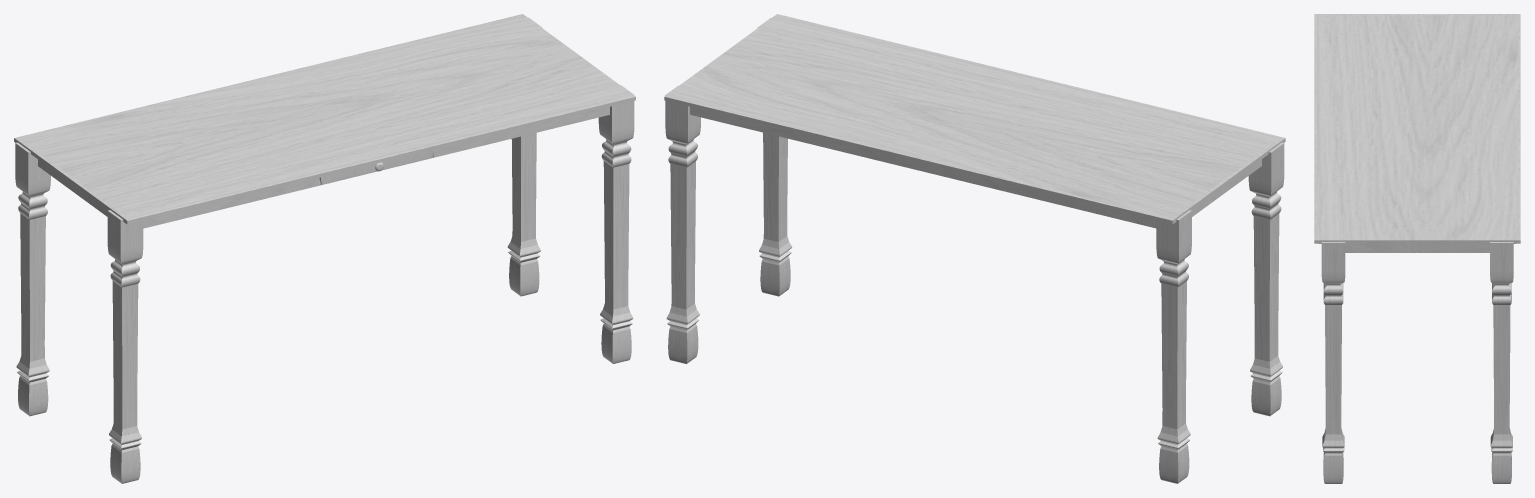
File: desk.glb
3 renders of one model, left to right at view 1: azimuth 30°, elevation 25°; view 2: azimuth 150°, elevation 25°; view 3: azimuth 270°, elevation 25°, orthographic. The views are drawn at different scales.
Parts seen in each view (by area): view 1: 上, left-front.001, left-front.002, left-front.004, left-front.003, 下, drawer; view 2: 上, left-front.002, left-front.001, left-front.003, 下, left-front.004; view 3: 上, left-front.004, left-front.003, 下.
Boxes of the visible parts, bbox=[...] form: 上: bbox=[14, 14, 635, 224]; left-front.001: bbox=[107, 210, 143, 483]; left-front.002: bbox=[15, 142, 50, 416]; left-front.004: bbox=[598, 85, 634, 363]; left-front.003: bbox=[507, 17, 541, 296]; 下: bbox=[38, 107, 609, 228]; drawer: bbox=[319, 149, 433, 184]; 上: bbox=[664, 14, 1285, 224]; left-front.002: bbox=[1156, 210, 1191, 483]; left-front.001: bbox=[1248, 142, 1284, 416]; left-front.003: bbox=[665, 85, 700, 363]; 下: bbox=[690, 106, 1261, 228]; left-front.004: bbox=[757, 18, 791, 296]; 上: bbox=[1314, 14, 1520, 243]; left-front.004: bbox=[1321, 242, 1345, 483]; left-front.003: bbox=[1490, 242, 1513, 483]; 下: bbox=[1345, 244, 1489, 252].
Bounding box in the file's own units: 2.73 × 1.36 × 1.04.
Materials: 2 (2 with a texture image).
